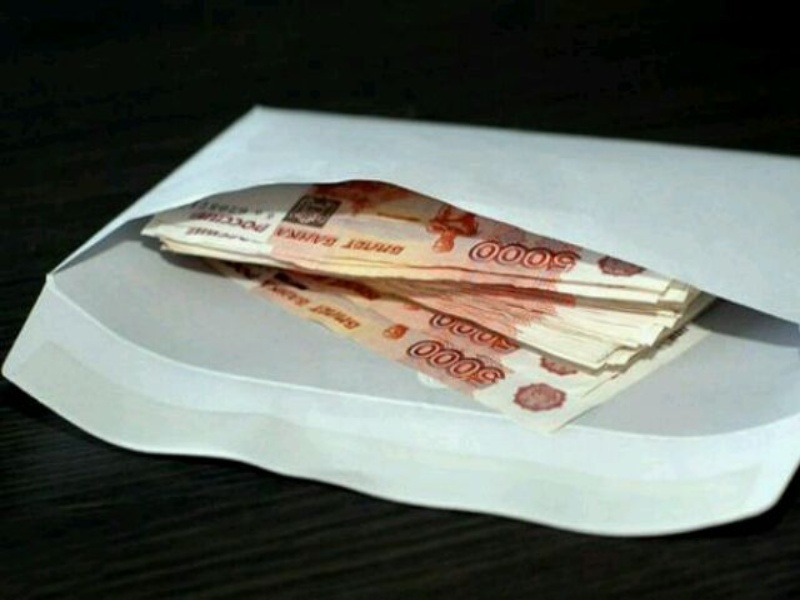cash: (139, 183, 721, 431)
